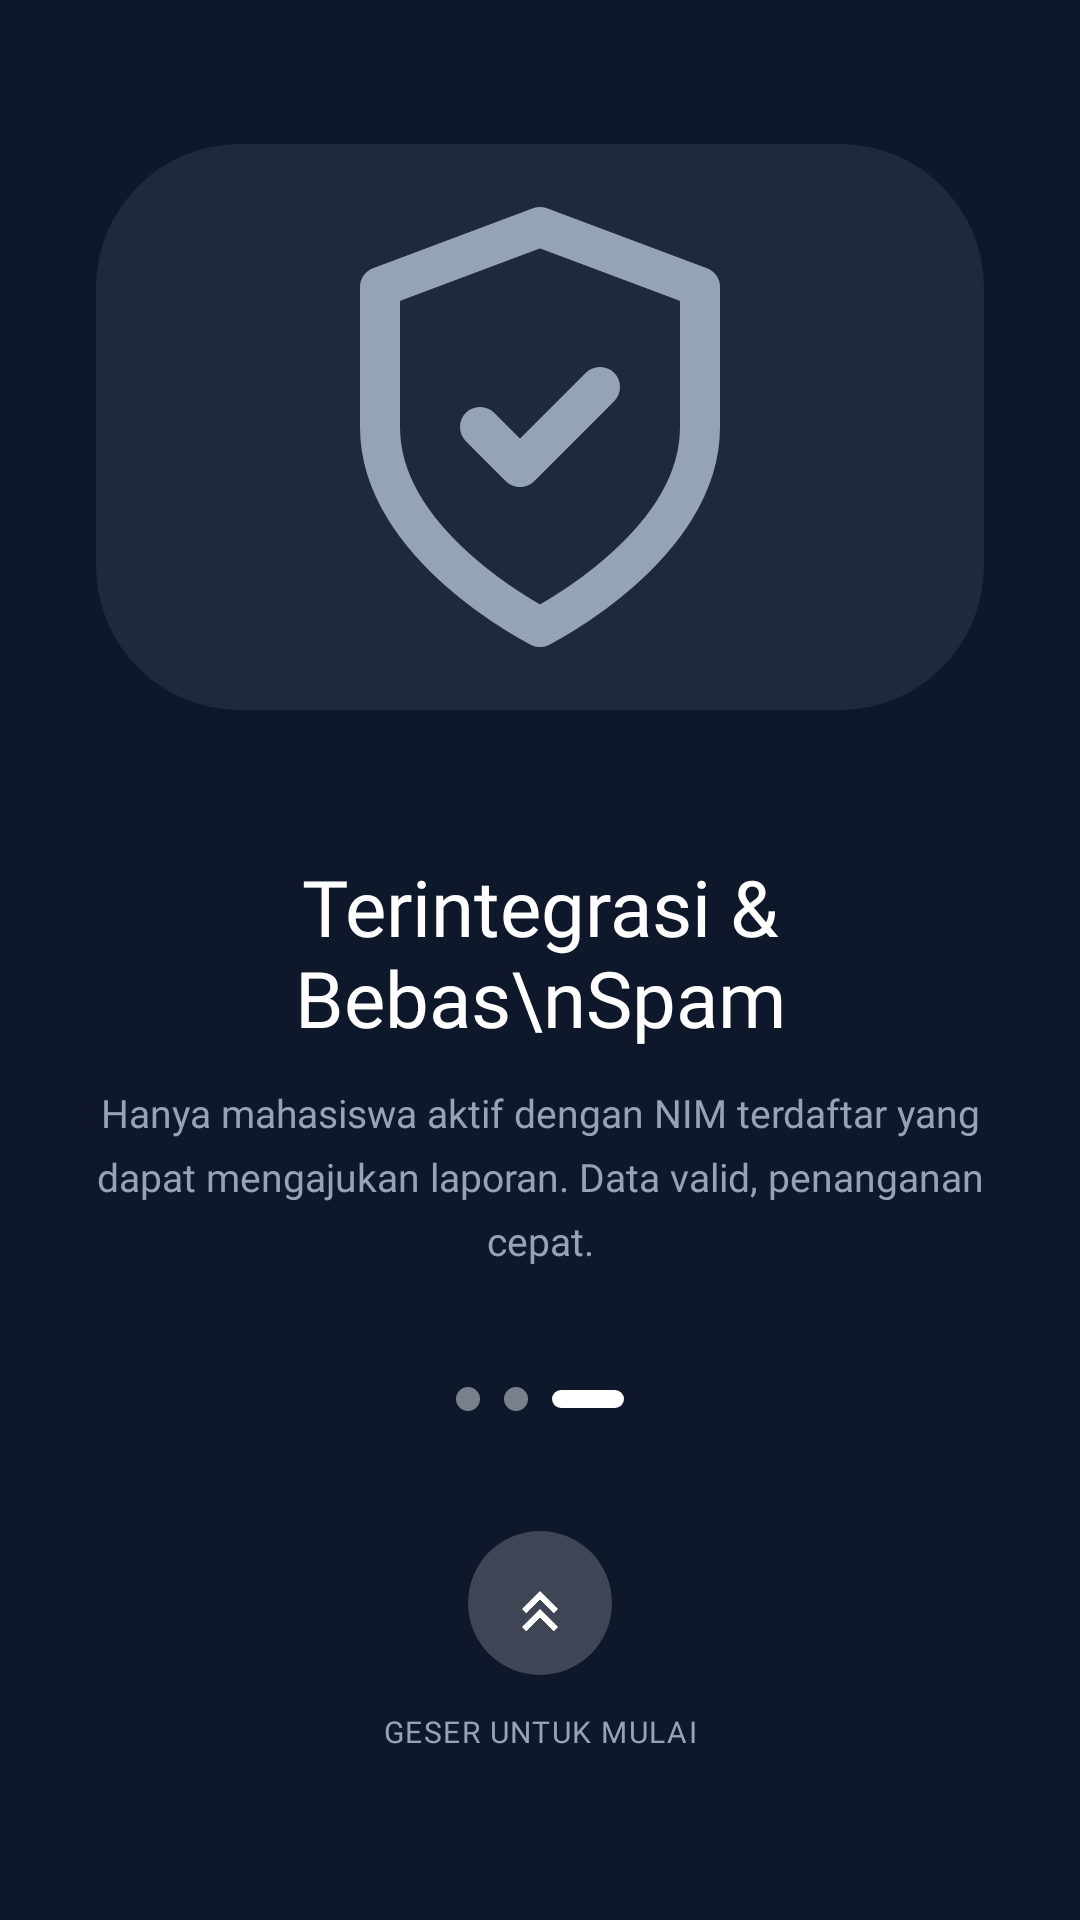

Icons on this 1080px×1920px Android screen, each with the point to tap as [x,y]:
arrow up double: [540,1611]
